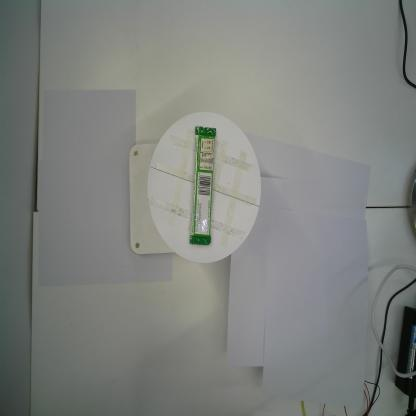Chocolate: (187, 124, 216, 249)
